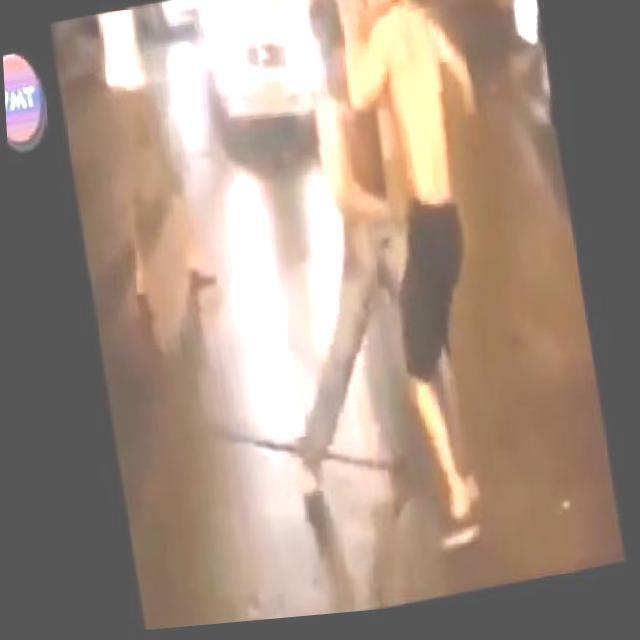fight: (271, 0, 511, 509)
